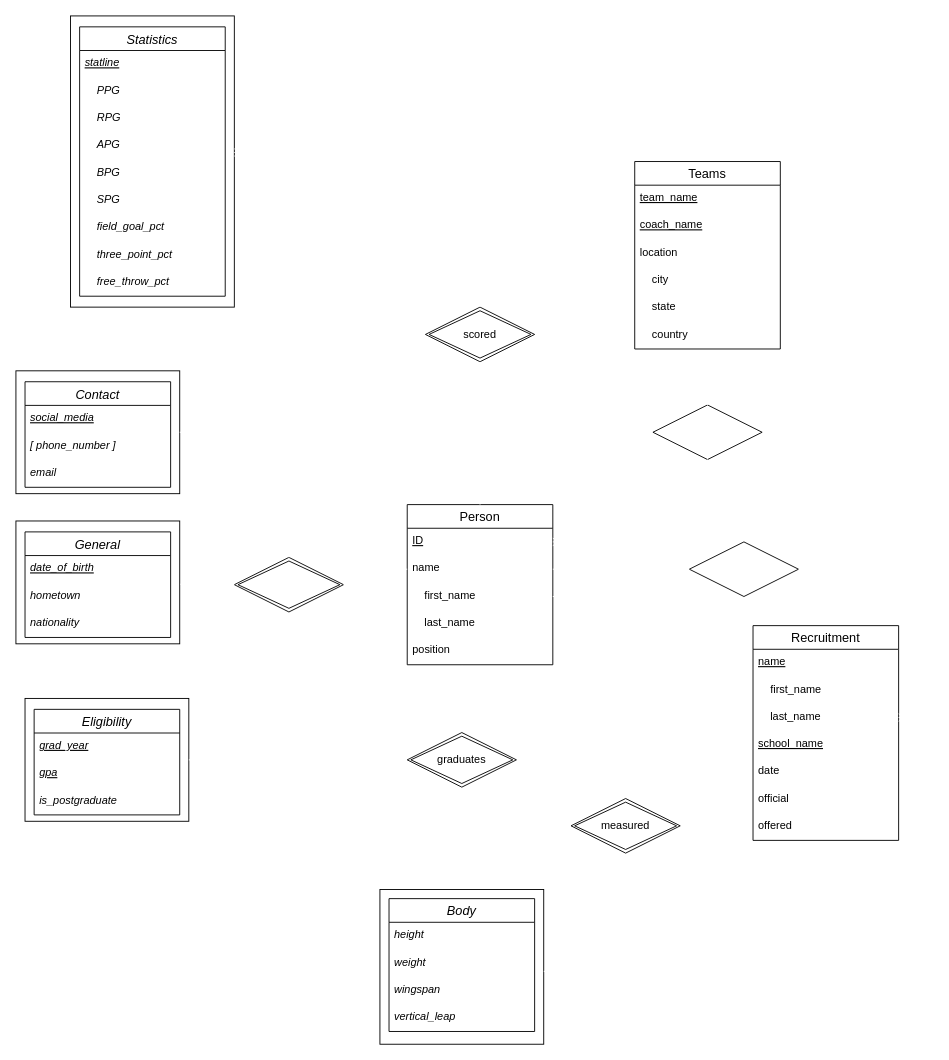
This 949x1060 diagram has some shape labels left out. The centre of each missing label's shape, as x and y in pixels:
college_interest: the point at 743,569
information: the point at 288,584
played＿for: the point at 707,432
